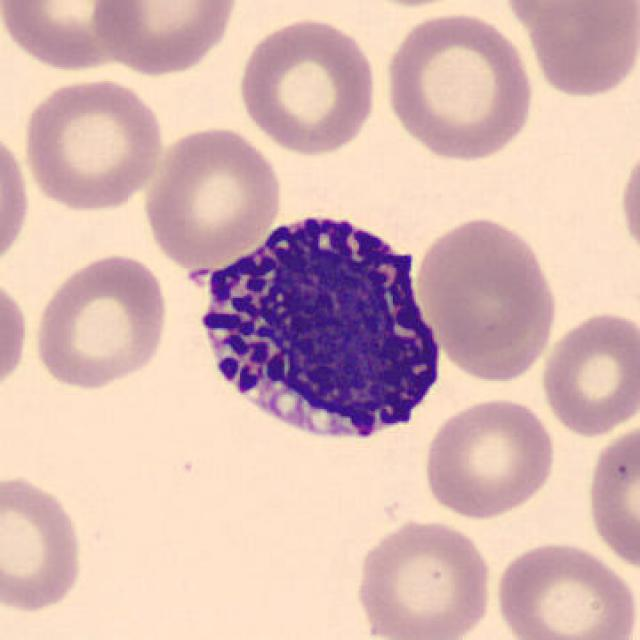Basophil: (185, 194, 457, 460)
RBC: (379, 9, 537, 164), (409, 212, 558, 368), (140, 122, 286, 270), (234, 12, 380, 159), (29, 249, 172, 393), (20, 74, 167, 213), (418, 393, 560, 522), (350, 516, 496, 640), (490, 537, 638, 640), (537, 307, 638, 439), (0, 469, 89, 617), (89, 0, 242, 78), (522, 0, 638, 102), (0, 0, 140, 74), (583, 418, 640, 575), (498, 0, 634, 39), (0, 120, 32, 277), (0, 270, 32, 400), (615, 138, 640, 266)
